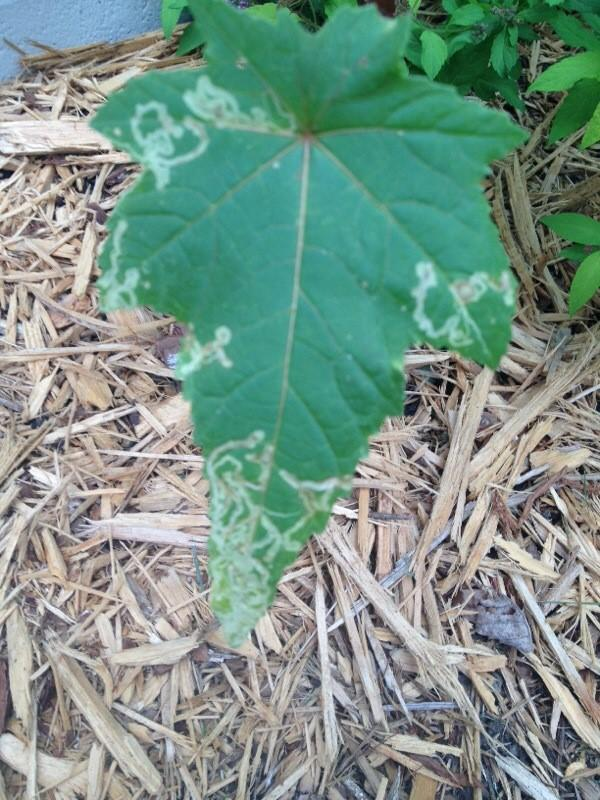Leaf_Miner: (93, 48, 524, 640)
